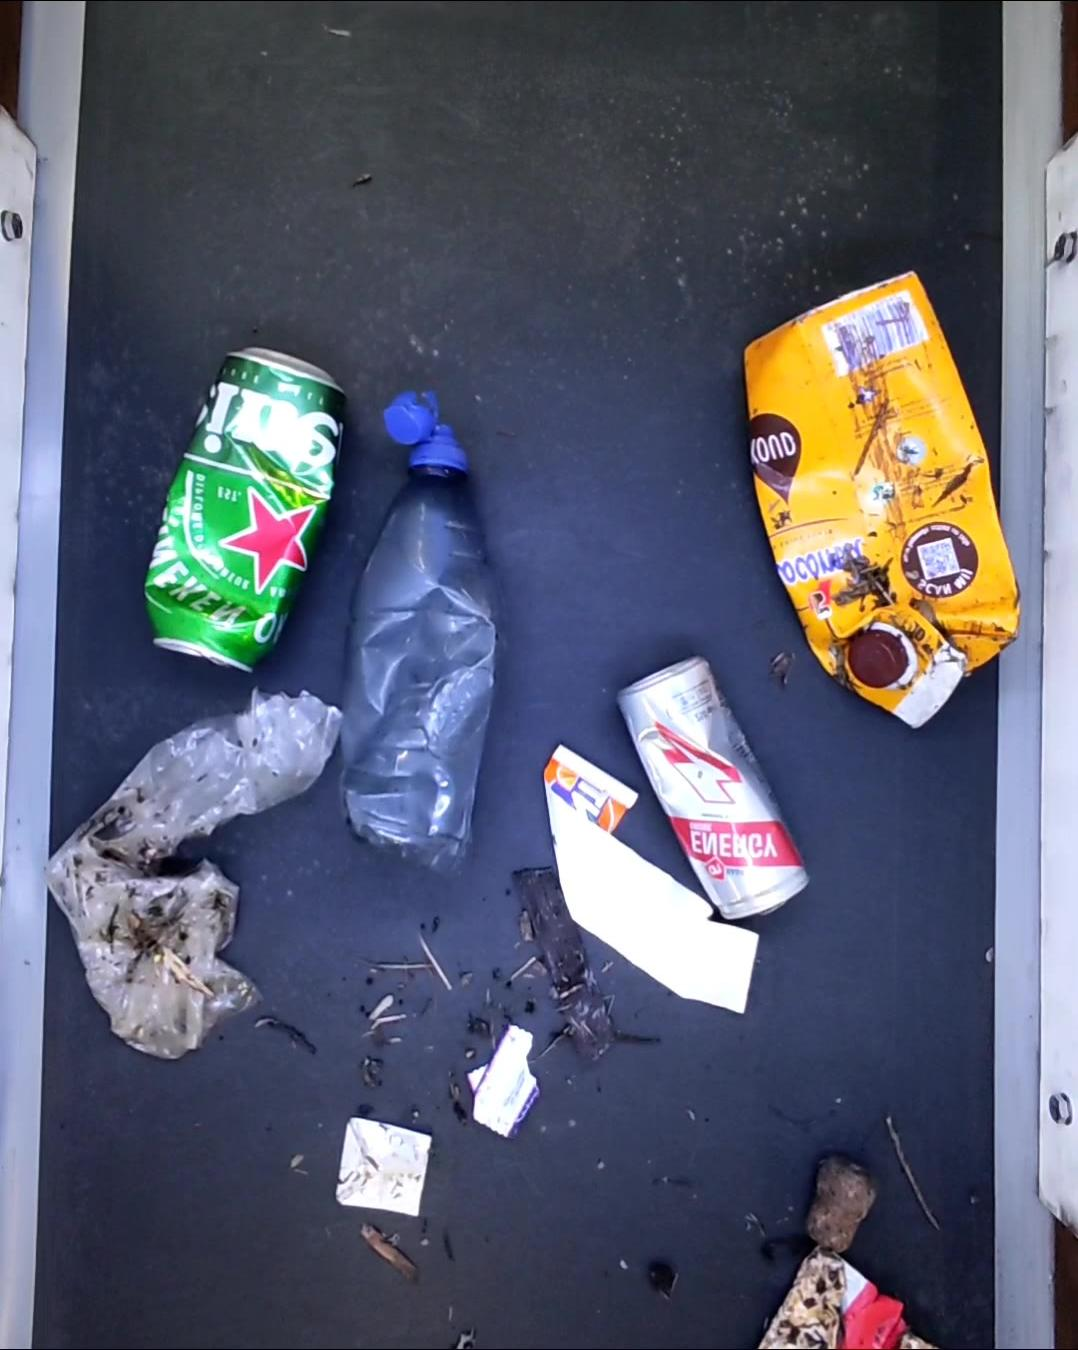Drankblikjes: (150, 350, 346, 671), (615, 654, 810, 924)
Drankflessen - 1-2 liter: (345, 397, 496, 870)
Plastic folies of stukken daarvan 2.5- 50 cm: (44, 696, 342, 1063), (469, 1019, 540, 1138)
Voedselverpakkingen: (752, 1253, 938, 1350)
